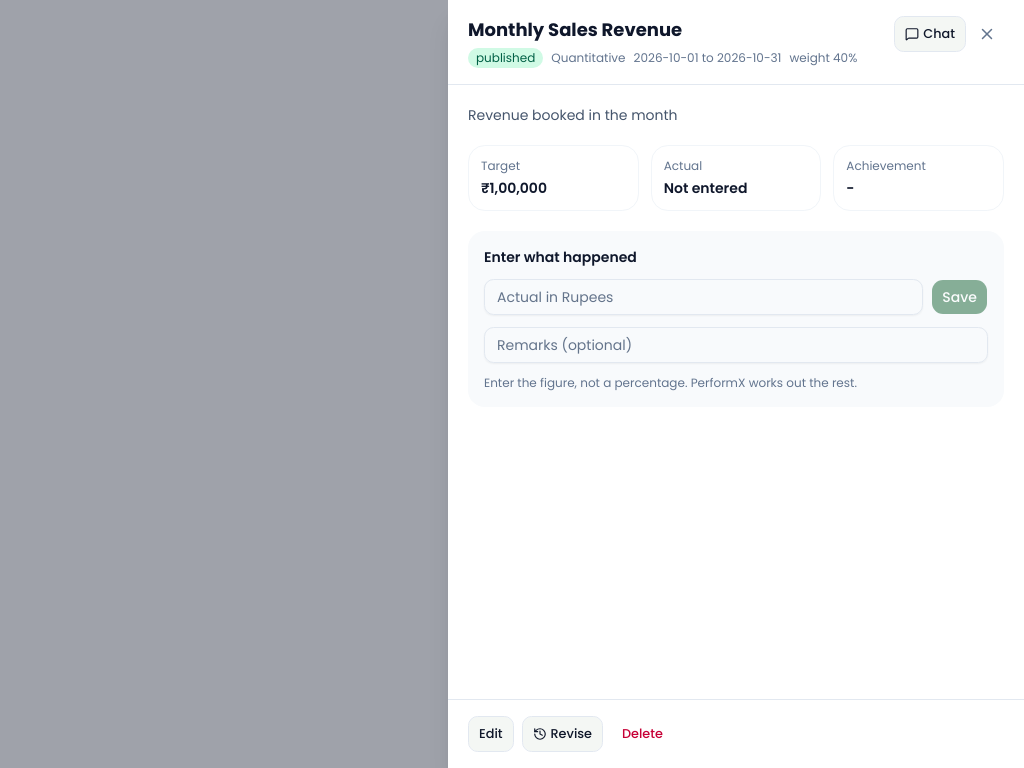
Test: KpiDetailSheet revise › does not send an invalid revision
Click the button "Revise": (562, 734) [522,716,603,752]
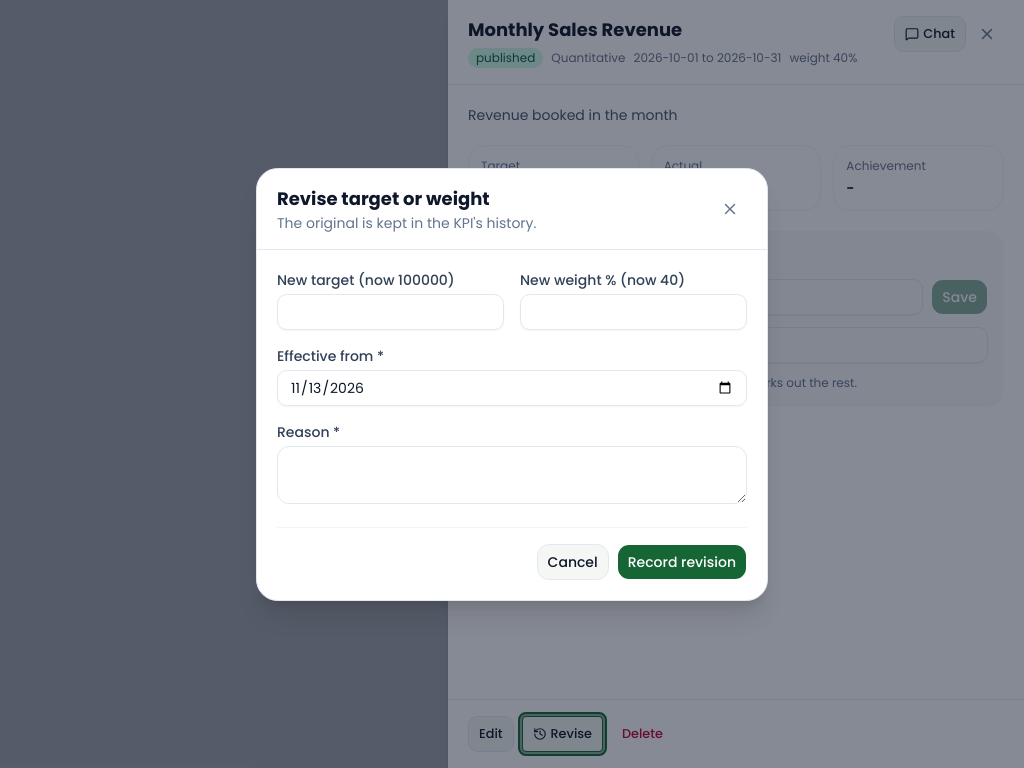
Click the button "Record revision": (682, 562) [617,544,747,580]
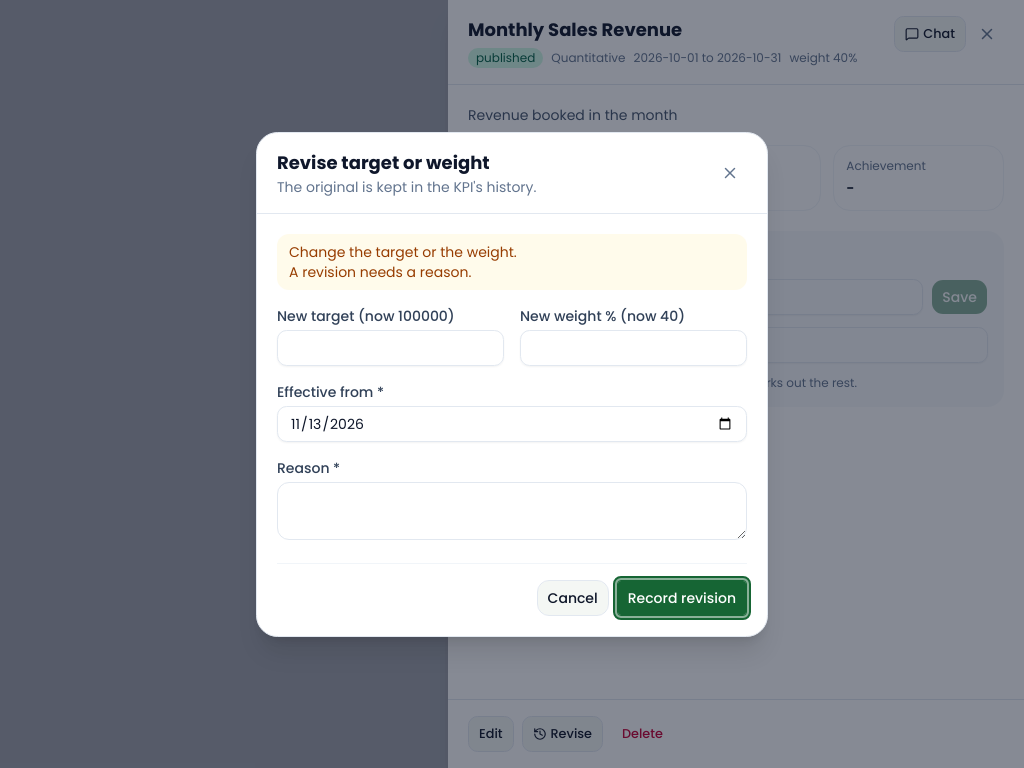
Result: the list item "Change the target or the weight." is shown at [289,242,517,262]
Result: the list item "A revision needs a reason." is shown at [289,262,471,282]
